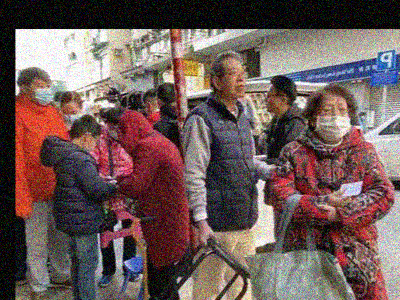with_mask: (315, 100, 350, 142), (29, 81, 52, 104), (58, 107, 79, 124)
without_mask: (221, 64, 247, 97), (262, 90, 281, 117)
